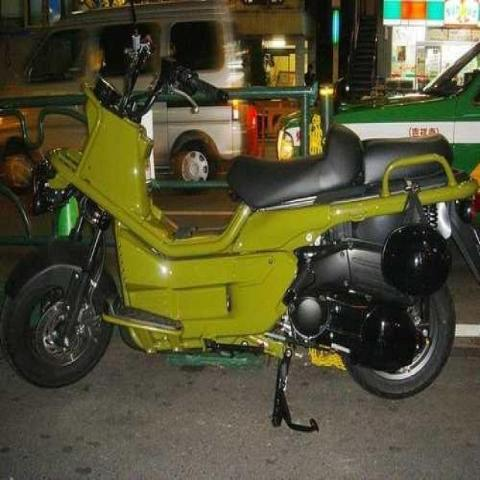van: (0, 6, 244, 188)
